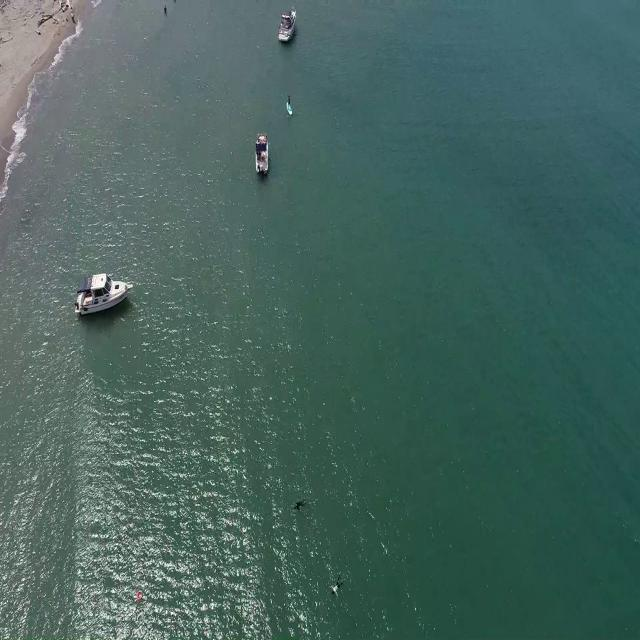boat: (76, 274, 131, 314), (254, 133, 272, 174), (278, 5, 296, 42)
life_buoy: (136, 590, 142, 603)
person: (330, 573, 345, 604), (294, 498, 308, 512), (162, 2, 170, 16), (287, 93, 293, 107)
surfboard: (285, 102, 294, 116)
